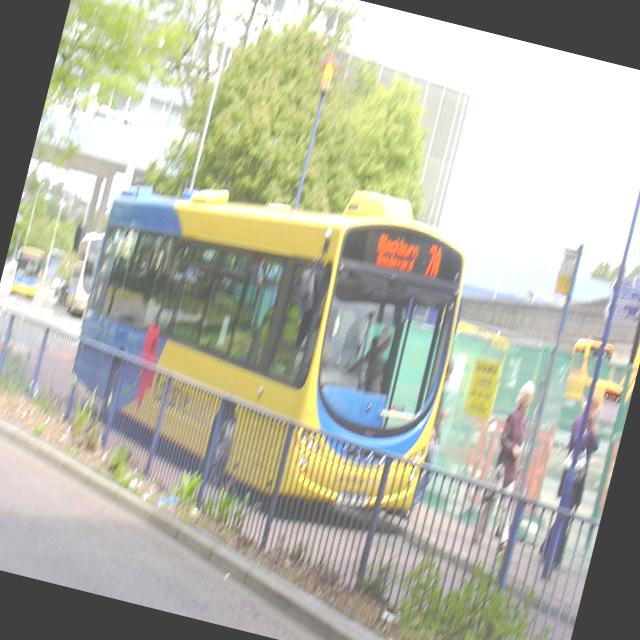Vehicle: (49, 136, 486, 551), (8, 244, 46, 302)
